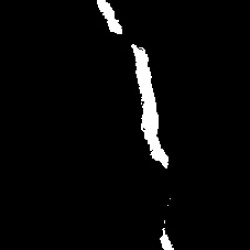crack: (130, 41, 168, 174), (95, 1, 123, 34), (161, 197, 174, 249)
